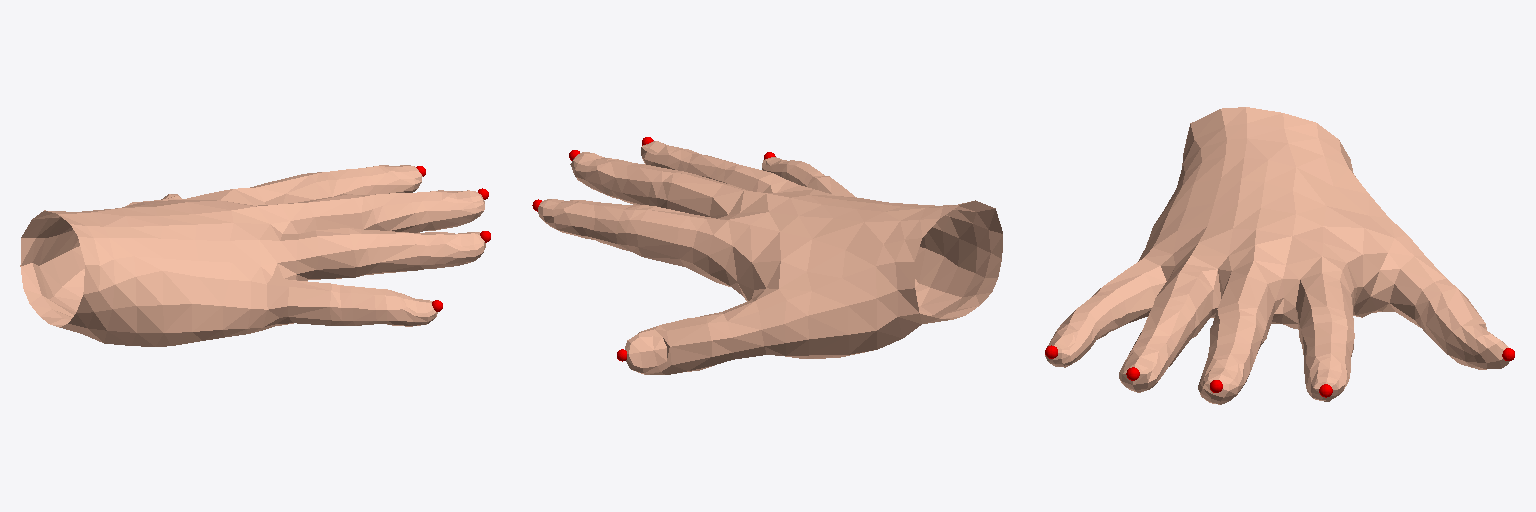
robot.urdf — mano_hand:
<?xml version='1.0' encoding='UTF-8'?>
<robot name="mano_hand">
  <material name="skin_color">
    <color rgba="0.95 0.75 0.65 1.0"/>
  </material>
  <material name="tip_marker_red">
    <color rgba="1.0 0.0 0.0 1.0"/>
  </material>
  <link name="base_link">
    <inertial>
      <origin xyz="0 0 0" rpy="0 0 0"/>
      <mass value="0.001"/>
      <inertia ixx="1e-6" ixy="0" ixz="0" iyy="1e-6" iyz="0" izz="1e-6"/>
    </inertial>
  </link>
  <joint name="ARTx" type="prismatic">
    <parent link="base_link"/>
    <child link="ARTx_link"/>
    <origin xyz="0 0 0" rpy="0 0 0"/>
    <axis xyz="1 0 0"/>
    <limit lower="-2.0" upper="2.0" effort="1000" velocity="100.0"/>
    <dynamics damping="1.0" friction="0.05"/>
  </joint>
  <link name="ARTx_link">
    <inertial>
      <origin xyz="0 0 0" rpy="0 0 0"/>
      <mass value="0.001"/>
      <inertia ixx="1e-6" ixy="0" ixz="0" iyy="1e-6" iyz="0" izz="1e-6"/>
    </inertial>
  </link>
  <joint name="ARTy" type="prismatic">
    <parent link="ARTx_link"/>
    <child link="ARTy_link"/>
    <origin xyz="0 0 0" rpy="0 0 0"/>
    <axis xyz="0 1 0"/>
    <limit lower="-2.0" upper="2.0" effort="1000" velocity="100.0"/>
    <dynamics damping="1.0" friction="0.05"/>
  </joint>
  <link name="ARTy_link">
    <inertial>
      <origin xyz="0 0 0" rpy="0 0 0"/>
      <mass value="0.001"/>
      <inertia ixx="1e-6" ixy="0" ixz="0" iyy="1e-6" iyz="0" izz="1e-6"/>
    </inertial>
  </link>
  <joint name="ARTz" type="prismatic">
    <parent link="ARTy_link"/>
    <child link="ARTz_link"/>
    <origin xyz="0 0 0" rpy="0 0 0"/>
    <axis xyz="0 0 1"/>
    <limit lower="-2.0" upper="2.0" effort="1000" velocity="100.0"/>
    <dynamics damping="1.0" friction="0.05"/>
  </joint>
  <link name="ARTz_link">
    <inertial>
      <origin xyz="0 0 0" rpy="0 0 0"/>
      <mass value="0.001"/>
      <inertia ixx="1e-6" ixy="0" ixz="0" iyy="1e-6" iyz="0" izz="1e-6"/>
    </inertial>
  </link>
  <joint name="ARRx" type="revolute">
    <parent link="ARTz_link"/>
    <child link="ARRx_link"/>
    <origin xyz="0 0 0" rpy="0 0 0"/>
    <axis xyz="1 0 0"/>
    <limit lower="-9.42478" upper="9.42478" effort="1000" velocity="100.0"/>
    <dynamics damping="1.0" friction="0.05"/>
  </joint>
  <link name="ARRx_link">
    <inertial>
      <origin xyz="0 0 0" rpy="0 0 0"/>
      <mass value="0.001"/>
      <inertia ixx="1e-6" ixy="0" ixz="0" iyy="1e-6" iyz="0" izz="1e-6"/>
    </inertial>
  </link>
  <joint name="ARRy" type="revolute">
    <parent link="ARRx_link"/>
    <child link="ARRy_link"/>
    <origin xyz="0 0 0" rpy="0 0 0"/>
    <axis xyz="0 1 0"/>
    <limit lower="-9.42478" upper="9.42478" effort="1000" velocity="100.0"/>
    <dynamics damping="1.0" friction="0.05"/>
  </joint>
  <link name="ARRy_link">
    <inertial>
      <origin xyz="0 0 0" rpy="0 0 0"/>
      <mass value="0.001"/>
      <inertia ixx="1e-6" ixy="0" ixz="0" iyy="1e-6" iyz="0" izz="1e-6"/>
    </inertial>
  </link>
  <joint name="ARRz" type="revolute">
    <parent link="ARRy_link"/>
    <child link="ARRz_link"/>
    <origin xyz="0 0 0" rpy="0 0 0"/>
    <axis xyz="0 0 1"/>
    <limit lower="-9.42478" upper="9.42478" effort="1000" velocity="100.0"/>
    <dynamics damping="1.0" friction="0.05"/>
  </joint>
  <link name="ARRz_link">
    <inertial>
      <origin xyz="0 0 0" rpy="0 0 0"/>
      <mass value="0.001"/>
      <inertia ixx="1e-6" ixy="0" ixz="0" iyy="1e-6" iyz="0" izz="1e-6"/>
    </inertial>
  </link>
  <joint name="palm_joint" type="fixed">
    <parent link="ARRz_link"/>
    <child link="palm"/>
    <origin xyz="0 0 0" rpy="1.5708 0 3.1416"/>
  </joint>
  <link name="palm">
    <inertial>
      <origin xyz="0 0 0" rpy="0 0 0"/>
      <mass value="0.02"/>
      <inertia ixx="1e-4" ixy="0" ixz="0" iyy="1e-4" iyz="0" izz="1e-4"/>
    </inertial>
    <visual>
      <geometry>
        <mesh filename="meshes/visual_palm.stl"/>
      </geometry>
      <material name="skin_color"/>
    </visual>
    <collision>
      <geometry>
        <mesh filename="meshes/palm.stl" scale="0.7 0.7 0.7"/>
      </geometry>
    </collision>
  </link>
  <joint name="j1_thumb_cmc_abd" type="revolute">
    <parent link="palm"/>
    <child link="thumb_cmc_abd"/>
    <origin xyz="-0.024704345 -0.016210226 0.026734151" rpy="0 0 0"/>
    <axis xyz="0.13838553 0.9562202 0.25786126"/>
    <limit lower="-1.175" upper="2.621" effort="100.0" velocity="100.0"/>
  </joint>
  <link name="thumb_cmc_abd">
    <inertial>
      <origin xyz="0 0 0" rpy="0 0 0"/>
      <mass value="0.001"/>
      <inertia ixx="1e-6" ixy="0" ixz="0" iyy="1e-6" iyz="0" izz="1e-6"/>
    </inertial>
  </link>
  <joint name="j1_thumb_cmc_flex" type="revolute">
    <parent link="thumb_cmc_abd"/>
    <child link="thumb_cmc_flex"/>
    <origin xyz="0 0 0" rpy="0 0 0"/>
    <axis xyz="0.983308 -0.16371468 0.07939028"/>
    <limit lower="-2.0" upper="1.97" effort="100.0" velocity="100.0"/>
  </joint>
  <link name="thumb_cmc_flex">
    <inertial>
      <origin xyz="0 0 0" rpy="0 0 0"/>
      <mass value="0.001"/>
      <inertia ixx="1e-6" ixy="0" ixz="0" iyy="1e-6" iyz="0" izz="1e-6"/>
    </inertial>
  </link>
  <joint name="j1_thumb_cmc_twist" type="revolute">
    <parent link="thumb_cmc_flex"/>
    <child link="thumb_cmc"/>
    <origin xyz="0 0 0" rpy="0 0 0"/>
    <axis xyz="0.11813027 0.24257056 -0.9629147"/>
    <limit lower="-1.5708" upper="1.5708" effort="100.0" velocity="100.0"/>
  </joint>
  <link name="thumb_cmc">
    <inertial>
      <origin xyz="0 0 0" rpy="0 0 0"/>
      <mass value="0.01"/>
      <inertia ixx="1e-5" ixy="0" ixz="0" iyy="1e-5" iyz="0" izz="1e-5"/>
    </inertial>
    <visual>
      <geometry>
        <mesh filename="meshes/visual_thumb1.stl"/>
      </geometry>
      <material name="skin_color"/>
    </visual>
    <collision>
      <geometry>
        <mesh filename="meshes/thumb1.stl"/>
      </geometry>
    </collision>
  </link>
  <joint name="j1_thumb_mcp_flex" type="revolute">
    <parent link="thumb_cmc"/>
    <child link="thumb_mcp_flex"/>
    <origin xyz="-0.019956063 0.0012230668 0.024574943" rpy="0 0 0"/>
    <axis xyz="0.3696764866888757 -0.8790409917024125 0.3010419075414728"/>
    <limit lower="0.0" upper="1.745" effort="100.0" velocity="100.0"/>
  </joint>
  <link name="thumb_mcp_flex">
    <inertial>
      <origin xyz="0 0 0" rpy="0 0 0"/>
      <mass value="0.001"/>
      <inertia ixx="1e-6" ixy="0" ixz="0" iyy="1e-6" iyz="0" izz="1e-6"/>
    </inertial>
  </link>
  <joint name="j1_thumb_mcp_abd" type="revolute">
    <parent link="thumb_mcp_flex"/>
    <child link="thumb_mcp"/>
    <origin xyz="0 0 0" rpy="0 0 0"/>
    <axis xyz="-0.5716182768686316 -0.4705844355444832 -0.6721628036220215"/>
    <limit lower="-0.7" upper="0.7" effort="100.0" velocity="100.0"/>
  </joint>
  <link name="thumb_mcp">
    <inertial>
      <origin xyz="0 0 0" rpy="0 0 0"/>
      <mass value="0.01"/>
      <inertia ixx="1e-5" ixy="0" ixz="0" iyy="1e-5" iyz="0" izz="1e-5"/>
    </inertial>
    <visual>
      <geometry>
        <mesh filename="meshes/visual_thumb2.stl"/>
      </geometry>
      <material name="skin_color"/>
    </visual>
    <collision>
      <geometry>
        <mesh filename="meshes/thumb2.stl"/>
      </geometry>
    </collision>
  </link>
  <joint name="j1_thumb_ip" type="revolute">
    <parent link="thumb_mcp"/>
    <child link="thumb_ip"/>
    <origin xyz="-0.022728203 -0.005675003 0.014841277" rpy="0 0 0"/>
    <axis xyz="0.3696764866888757 -0.8790409917024125 0.3010419075414728"/>
    <limit lower="0.0" upper="1.745" effort="100.0" velocity="100.0"/>
  </joint>
  <link name="thumb_ip">
    <inertial>
      <origin xyz="0 0 0" rpy="0 0 0"/>
      <mass value="0.01"/>
      <inertia ixx="1e-5" ixy="0" ixz="0" iyy="1e-5" iyz="0" izz="1e-5"/>
    </inertial>
    <visual>
      <geometry>
        <mesh filename="meshes/visual_thumb3.stl"/>
      </geometry>
      <material name="skin_color"/>
    </visual>
    <visual>
      <origin xyz="-0.0266503338 -0.00300316885 0.0244902819" rpy="0 0 0"/>
      <geometry>
        <sphere radius="0.0025"/>
      </geometry>
      <material name="tip_marker_red"/>
    </visual>
    <collision>
      <geometry>
        <mesh filename="meshes/thumb3.stl"/>
      </geometry>
    </collision>
  </link>
  <joint name="j2_index_mcp_abd" type="revolute">
    <parent link="palm"/>
    <child link="index_mcp_abd"/>
    <origin xyz="-0.090581916 -0.00524202 0.02141533" rpy="0 0 0"/>
    <axis xyz="0.061695436024444154 -0.9980950221165086 0.0"/>
    <limit lower="-0.349" upper="0.349" effort="100.0" velocity="100.0"/>
  </joint>
  <link name="index_mcp_abd">
    <inertial>
      <origin xyz="0 0 0" rpy="0 0 0"/>
      <mass value="0.001"/>
      <inertia ixx="1e-6" ixy="0" ixz="0" iyy="1e-6" iyz="0" izz="1e-6"/>
    </inertial>
  </link>
  <joint name="j2_index_mcp_flex" type="revolute">
    <parent link="index_mcp_abd"/>
    <child link="index_mcp"/>
    <origin xyz="0 0 0" rpy="0 0 0"/>
    <axis xyz="-0.007558282177929706 -0.0004672015231318583 0.999971326635547"/>
    <limit lower="-0.175" upper="1.571" effort="100.0" velocity="100.0"/>
  </joint>
  <link name="index_mcp">
    <inertial>
      <origin xyz="0 0 0" rpy="0 0 0"/>
      <mass value="0.01"/>
      <inertia ixx="1e-5" ixy="0" ixz="0" iyy="1e-5" iyz="0" izz="1e-5"/>
    </inertial>
    <visual>
      <geometry>
        <mesh filename="meshes/visual_index1.stl"/>
      </geometry>
      <material name="skin_color"/>
    </visual>
    <collision>
      <geometry>
        <mesh filename="meshes/index1.stl"/>
      </geometry>
    </collision>
  </link>
  <joint name="j2_index_pip" type="revolute">
    <parent link="index_mcp"/>
    <child link="index_pip"/>
    <origin xyz="-0.033410024 0.0039509973 0.0023879595" rpy="0 0 0"/>
    <axis xyz="-0.007558282177929706 -0.0004672015231318583 0.999971326635547"/>
    <limit lower="0.0" upper="1.745" effort="100.0" velocity="100.0"/>
  </joint>
  <link name="index_pip">
    <inertial>
      <origin xyz="0 0 0" rpy="0 0 0"/>
      <mass value="0.01"/>
      <inertia ixx="1e-5" ixy="0" ixz="0" iyy="1e-5" iyz="0" izz="1e-5"/>
    </inertial>
    <visual>
      <geometry>
        <mesh filename="meshes/visual_index2.stl"/>
      </geometry>
      <material name="skin_color"/>
    </visual>
    <collision>
      <geometry>
        <mesh filename="meshes/index2.stl"/>
      </geometry>
    </collision>
  </link>
  <joint name="j2_index_dip" type="revolute">
    <parent link="index_pip"/>
    <child link="index_dip"/>
    <origin xyz="-0.022654545 -0.0014003497 -0.00017188862" rpy="0 0 0"/>
    <axis xyz="-0.007558282177929706 -0.0004672015231318583 0.999971326635547"/>
    <limit lower="0.0" upper="1.745" effort="100.0" velocity="100.0"/>
  </joint>
  <link name="index_dip">
    <inertial>
      <origin xyz="0 0 0" rpy="0 0 0"/>
      <mass value="0.01"/>
      <inertia ixx="1e-5" ixy="0" ixz="0" iyy="1e-5" iyz="0" izz="1e-5"/>
    </inertial>
    <visual>
      <geometry>
        <mesh filename="meshes/visual_index3.stl"/>
      </geometry>
      <material name="skin_color"/>
    </visual>
    <visual>
      <origin xyz="-0.0260560066 0.000962143298 -0.000523932278" rpy="0 0 0"/>
      <geometry>
        <sphere radius="0.0025"/>
      </geometry>
      <material name="tip_marker_red"/>
    </visual>
    <collision>
      <geometry>
        <mesh filename="meshes/index3.stl"/>
      </geometry>
    </collision>
  </link>
  <joint name="j3_middle_mcp_abd" type="revolute">
    <parent link="palm"/>
    <child link="middle_mcp_abd"/>
    <origin xyz="-0.097288944 -0.0013957056 -0.0034511331" rpy="0 0 0"/>
    <axis xyz="0.05927868 -0.9980696 -0.018527139"/>
    <limit lower="-0.524" upper="0.349" effort="100.0" velocity="100.0"/>
  </joint>
  <link name="middle_mcp_abd">
    <inertial>
      <origin xyz="0 0 0" rpy="0 0 0"/>
      <mass value="0.001"/>
      <inertia ixx="1e-6" ixy="0" ixz="0" iyy="1e-6" iyz="0" izz="1e-6"/>
    </inertial>
  </link>
  <joint name="j3_middle_mcp_flex" type="revolute">
    <parent link="middle_mcp_abd"/>
    <child link="middle_mcp"/>
    <origin xyz="0 0 0" rpy="0 0 0"/>
    <axis xyz="-0.16968584 -0.028364407 0.98508996"/>
    <limit lower="-0.175" upper="1.571" effort="100.0" velocity="100.0"/>
  </joint>
  <link name="middle_mcp">
    <inertial>
      <origin xyz="0 0 0" rpy="0 0 0"/>
      <mass value="0.01"/>
      <inertia ixx="1e-5" ixy="0" ixz="0" iyy="1e-5" iyz="0" izz="1e-5"/>
    </inertial>
    <visual>
      <geometry>
        <mesh filename="meshes/visual_middle1.stl"/>
      </geometry>
      <material name="skin_color"/>
    </visual>
    <collision>
      <geometry>
        <mesh filename="meshes/middle1.stl"/>
      </geometry>
    </collision>
  </link>
  <joint name="j3_middle_pip" type="revolute">
    <parent link="middle_mcp"/>
    <child link="middle_pip"/>
    <origin xyz="-0.031905938 0.0017434428 -0.0056828465" rpy="0 0 0"/>
    <axis xyz="-0.16968584 -0.028364407 0.98508996"/>
    <limit lower="0.0" upper="1.745" effort="100.0" velocity="100.0"/>
  </joint>
  <link name="middle_pip">
    <inertial>
      <origin xyz="0 0 0" rpy="0 0 0"/>
      <mass value="0.01"/>
      <inertia ixx="1e-5" ixy="0" ixz="0" iyy="1e-5" iyz="0" izz="1e-5"/>
    </inertial>
    <visual>
      <geometry>
        <mesh filename="meshes/visual_middle2.stl"/>
      </geometry>
      <material name="skin_color"/>
    </visual>
    <collision>
      <geometry>
        <mesh filename="meshes/middle2.stl"/>
      </geometry>
    </collision>
  </link>
  <joint name="j3_middle_dip" type="revolute">
    <parent link="middle_pip"/>
    <child link="middle_dip"/>
    <origin xyz="-0.023432396 -0.0013160985 -0.0040742233" rpy="0 0 0"/>
    <axis xyz="-0.16968584 -0.028364407 0.98508996"/>
    <limit lower="0.0" upper="1.745" effort="100.0" velocity="100.0"/>
  </joint>
  <link name="middle_dip">
    <inertial>
      <origin xyz="0 0 0" rpy="0 0 0"/>
      <mass value="0.01"/>
      <inertia ixx="1e-5" ixy="0" ixz="0" iyy="1e-5" iyz="0" izz="1e-5"/>
    </inertial>
    <visual>
      <geometry>
        <mesh filename="meshes/visual_middle3.stl"/>
      </geometry>
      <material name="skin_color"/>
    </visual>
    <visual>
      <origin xyz="-0.0262673758 0.00392891001 -0.00421216805" rpy="0 0 0"/>
      <geometry>
        <sphere radius="0.0025"/>
      </geometry>
      <material name="tip_marker_red"/>
    </visual>
    <collision>
      <geometry>
        <mesh filename="meshes/middle3.stl"/>
      </geometry>
    </collision>
  </link>
  <joint name="j4_ring_mcp_abd" type="revolute">
    <parent link="palm"/>
    <child link="ring_mcp_abd"/>
    <origin xyz="-0.083926454 -0.0039365473 -0.027616814" rpy="0 0 0"/>
    <axis xyz="0.034989145 -0.9917128 0.12361857"/>
    <limit lower="-0.524" upper="0.349" effort="100.0" velocity="100.0"/>
  </joint>
  <link name="ring_mcp_abd">
    <inertial>
      <origin xyz="0 0 0" rpy="0 0 0"/>
      <mass value="0.001"/>
      <inertia ixx="1e-6" ixy="0" ixz="0" iyy="1e-6" iyz="0" izz="1e-6"/>
    </inertial>
  </link>
  <joint name="j4_ring_mcp_flex" type="revolute">
    <parent link="ring_mcp_abd"/>
    <child link="ring_mcp"/>
    <origin xyz="0 0 0" rpy="0 0 0"/>
    <axis xyz="-0.31276163 0.10661508 0.9438291"/>
    <limit lower="-0.175" upper="1.571" effort="100.0" velocity="100.0"/>
  </joint>
  <link name="ring_mcp">
    <inertial>
      <origin xyz="0 0 0" rpy="0 0 0"/>
      <mass value="0.01"/>
      <inertia ixx="1e-5" ixy="0" ixz="0" iyy="1e-5" iyz="0" izz="1e-5"/>
    </inertial>
    <visual>
      <geometry>
        <mesh filename="meshes/visual_ring1.stl"/>
      </geometry>
      <material name="skin_color"/>
    </visual>
    <collision>
      <geometry>
        <mesh filename="meshes/ring1.stl"/>
      </geometry>
    </collision>
  </link>
  <joint name="j4_ring_pip" type="revolute">
    <parent link="ring_mcp"/>
    <child link="ring_pip"/>
    <origin xyz="-0.029146703 0.002144216 -0.0052470285" rpy="0 0 0"/>
    <axis xyz="-0.31276163 0.10661508 0.9438291"/>
    <limit lower="0.0" upper="1.745" effort="100.0" velocity="100.0"/>
  </joint>
  <link name="ring_pip">
    <inertial>
      <origin xyz="0 0 0" rpy="0 0 0"/>
      <mass value="0.01"/>
      <inertia ixx="1e-5" ixy="0" ixz="0" iyy="1e-5" iyz="0" izz="1e-5"/>
    </inertial>
    <visual>
      <geometry>
        <mesh filename="meshes/visual_ring2.stl"/>
      </geometry>
      <material name="skin_color"/>
    </visual>
    <collision>
      <geometry>
        <mesh filename="meshes/ring2.stl"/>
      </geometry>
    </collision>
  </link>
  <joint name="j4_ring_dip" type="revolute">
    <parent link="ring_pip"/>
    <child link="ring_dip"/>
    <origin xyz="-0.024165628 -0.0018250982 -0.0078017283" rpy="0 0 0"/>
    <axis xyz="-0.31276163 0.10661508 0.9438291"/>
    <limit lower="0.0" upper="1.745" effort="100.0" velocity="100.0"/>
  </joint>
  <link name="ring_dip">
    <inertial>
      <origin xyz="0 0 0" rpy="0 0 0"/>
      <mass value="0.01"/>
      <inertia ixx="1e-5" ixy="0" ixz="0" iyy="1e-5" iyz="0" izz="1e-5"/>
    </inertial>
    <visual>
      <geometry>
        <mesh filename="meshes/visual_ring3.stl"/>
      </geometry>
      <material name="skin_color"/>
    </visual>
    <visual>
      <origin xyz="-0.0250933915 0.00388110499 -0.00751078501" rpy="0 0 0"/>
      <geometry>
        <sphere radius="0.0025"/>
      </geometry>
      <material name="tip_marker_red"/>
    </visual>
    <collision>
      <geometry>
        <mesh filename="meshes/ring3.stl"/>
      </geometry>
    </collision>
  </link>
  <joint name="j5_pinky_mcp_abd" type="revolute">
    <parent link="palm"/>
    <child link="pinky_mcp_abd"/>
    <origin xyz="-0.07055996 -0.0102425385 -0.044679314" rpy="0 0 0"/>
    <axis xyz="-0.12182937 -0.9582415 0.25870955"/>
    <limit lower="-0.698" upper="0.349" effort="100.0" velocity="100.0"/>
  </joint>
  <link name="pinky_mcp_abd">
    <inertial>
      <origin xyz="0 0 0" rpy="0 0 0"/>
      <mass value="0.001"/>
      <inertia ixx="1e-6" ixy="0" ixz="0" iyy="1e-6" iyz="0" izz="1e-6"/>
    </inertial>
  </link>
  <joint name="j5_pinky_mcp_flex" type="revolute">
    <parent link="pinky_mcp_abd"/>
    <child link="pinky_mcp"/>
    <origin xyz="0 0 0" rpy="0 0 0"/>
    <axis xyz="-0.52631825 0.283357 0.80168444"/>
    <limit lower="-0.175" upper="1.571" effort="100.0" velocity="100.0"/>
  </joint>
  <link name="pinky_mcp">
    <inertial>
      <origin xyz="0 0 0" rpy="0 0 0"/>
      <mass value="0.01"/>
      <inertia ixx="1e-5" ixy="0" ixz="0" iyy="1e-5" iyz="0" izz="1e-5"/>
    </inertial>
    <visual>
      <geometry>
        <mesh filename="meshes/visual_pinky1.stl"/>
      </geometry>
      <material name="skin_color"/>
    </visual>
    <collision>
      <geometry>
        <mesh filename="meshes/pinky1.stl"/>
      </geometry>
    </collision>
  </link>
  <joint name="j5_pinky_pip" type="revolute">
    <parent link="pinky_mcp"/>
    <child link="pinky_pip"/>
    <origin xyz="-0.017578203 -8.227397e-05 -0.012755204" rpy="0 0 0"/>
    <axis xyz="-0.52631825 0.283357 0.80168444"/>
    <limit lower="0.0" upper="1.745" effort="100.0" velocity="100.0"/>
  </joint>
  <link name="pinky_pip">
    <inertial>
      <origin xyz="0 0 0" rpy="0 0 0"/>
      <mass value="0.01"/>
      <inertia ixx="1e-5" ixy="0" ixz="0" iyy="1e-5" iyz="0" izz="1e-5"/>
    </inertial>
    <visual>
      <geometry>
        <mesh filename="meshes/visual_pinky2.stl"/>
      </geometry>
      <material name="skin_color"/>
    </visual>
    <collision>
      <geometry>
        <mesh filename="meshes/pinky2.stl"/>
      </geometry>
    </collision>
  </link>
  <joint name="j5_pinky_dip" type="revolute">
    <parent link="pinky_pip"/>
    <child link="pinky_dip"/>
    <origin xyz="-0.016409367 -0.0007506418 -0.010507688" rpy="0 0 0"/>
    <axis xyz="-0.52631825 0.283357 0.80168444"/>
    <limit lower="0.0" upper="1.745" effort="100.0" velocity="100.0"/>
  </joint>
  <link name="pinky_dip">
    <inertial>
      <origin xyz="0 0 0" rpy="0 0 0"/>
      <mass value="0.01"/>
      <inertia ixx="1e-5" ixy="0" ixz="0" iyy="1e-5" iyz="0" izz="1e-5"/>
    </inertial>
    <visual>
      <geometry>
        <mesh filename="meshes/visual_pinky3.stl"/>
      </geometry>
      <material name="skin_color"/>
    </visual>
    <visual>
      <origin xyz="-0.0176626015 0.0015621488 -0.0103372559" rpy="0 0 0"/>
      <geometry>
        <sphere radius="0.0025"/>
      </geometry>
      <material name="tip_marker_red"/>
    </visual>
    <collision>
      <geometry>
        <mesh filename="meshes/pinky3.stl"/>
      </geometry>
    </collision>
  </link>
</robot>

--- What the picture shows (computed from the rendered views, not written in the file) ---
3 views of the same robot in one strip: view 1: azimuth 30°, elevation 25°; view 2: azimuth 150°, elevation 25°; view 3: azimuth 270°, elevation 25° (orthographic).
Robot: mano_hand — 30 links, 29 joints (25 revolute, 3 prismatic, 1 fixed); root link base_link; default pose: all joints at 0.
Links seen in each view (by area): view 1: palm, ring_mcp, pinky_mcp, middle_mcp, ring_pip, thumb_cmc, middle_dip, middle_pip, ring_dip, pinky_pip, index_mcp, pinky_dip (+2 smaller); view 2: palm, thumb_cmc, thumb_mcp, thumb_ip, index_mcp, middle_mcp, index_pip, middle_dip, middle_pip, index_dip, ring_mcp, ring_dip (+2 smaller); view 3: palm, thumb_ip, thumb_mcp, middle_mcp, index_mcp, ring_mcp, middle_dip, index_dip, ring_pip, ring_dip, pinky_mcp, pinky_dip (+3 smaller).
Boxes of the visible links, x1,y1,x2,y2 form: palm: (20, 188, 297, 346); ring_mcp: (278, 228, 366, 280); pinky_mcp: (267, 277, 343, 325); middle_mcp: (280, 194, 382, 233); ring_pip: (357, 229, 432, 276); thumb_cmc: (39, 224, 84, 310); middle_dip: (415, 188, 488, 230); middle_pip: (373, 193, 430, 232); ring_dip: (423, 231, 490, 268); pinky_pip: (333, 284, 398, 325); index_mcp: (250, 173, 331, 204); pinky_dip: (385, 290, 442, 326); palm: (693, 185, 1002, 349); thumb_cmc: (779, 272, 876, 358); thumb_mcp: (706, 288, 786, 364); thumb_ip: (617, 315, 714, 374); index_mcp: (626, 205, 715, 273); middle_mcp: (648, 171, 747, 218); index_pip: (581, 202, 641, 251); middle_dip: (569, 150, 633, 198); middle_pip: (607, 163, 677, 205); index_dip: (532, 199, 598, 238); ring_mcp: (723, 164, 798, 192); ring_dip: (641, 137, 698, 169); palm: (1130, 107, 1394, 328); thumb_ip: (1420, 288, 1514, 369); thumb_mcp: (1371, 235, 1456, 333); middle_mcp: (1211, 261, 1294, 344); index_mcp: (1284, 270, 1353, 343); ring_mcp: (1153, 255, 1222, 337); middle_dip: (1198, 342, 1251, 404); index_dip: (1304, 342, 1350, 401); ring_pip: (1133, 299, 1195, 366); ring_dip: (1119, 336, 1171, 392); pinky_mcp: (1092, 266, 1165, 330); pinky_dip: (1045, 315, 1095, 367).
Size in the robot's own frame: 0.2005 by 0.1741 by 0.0634 metres.
Meshes: 16 distinct files referenced, 16 mesh visuals loaded (16 binary STL).
